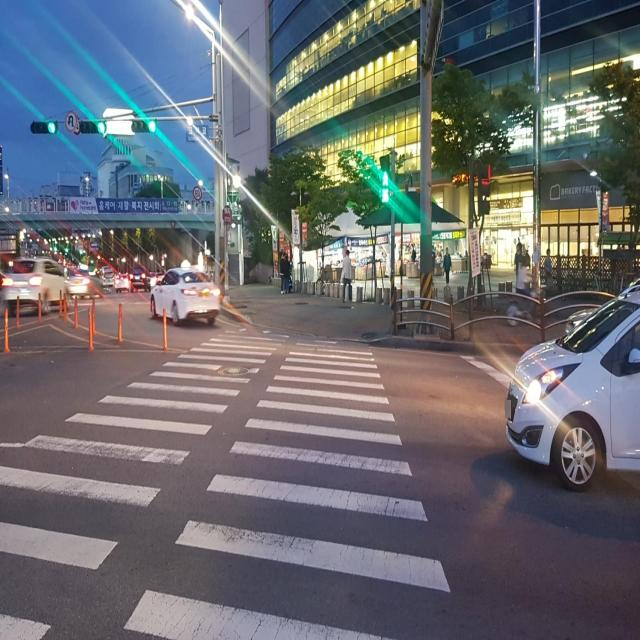초록불: (378, 155, 391, 206)
횡단보도: (0, 327, 451, 639)
